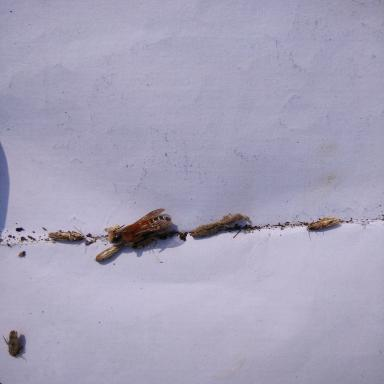pbw: (188, 222, 224, 240), (307, 215, 341, 233), (94, 241, 123, 262), (46, 228, 85, 243), (5, 330, 22, 358)
